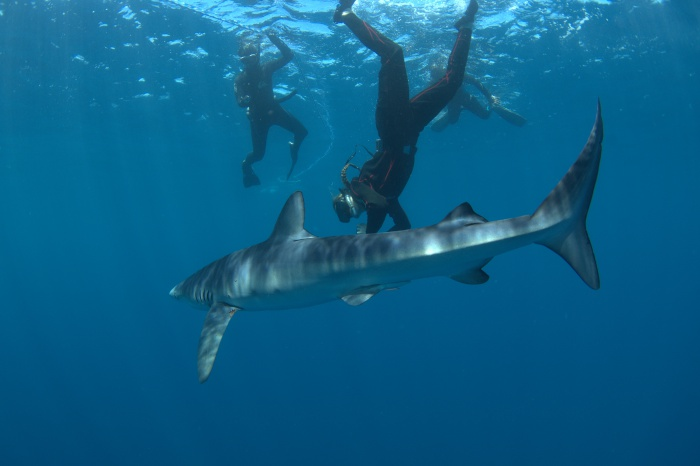Azul: (156, 96, 656, 413)
